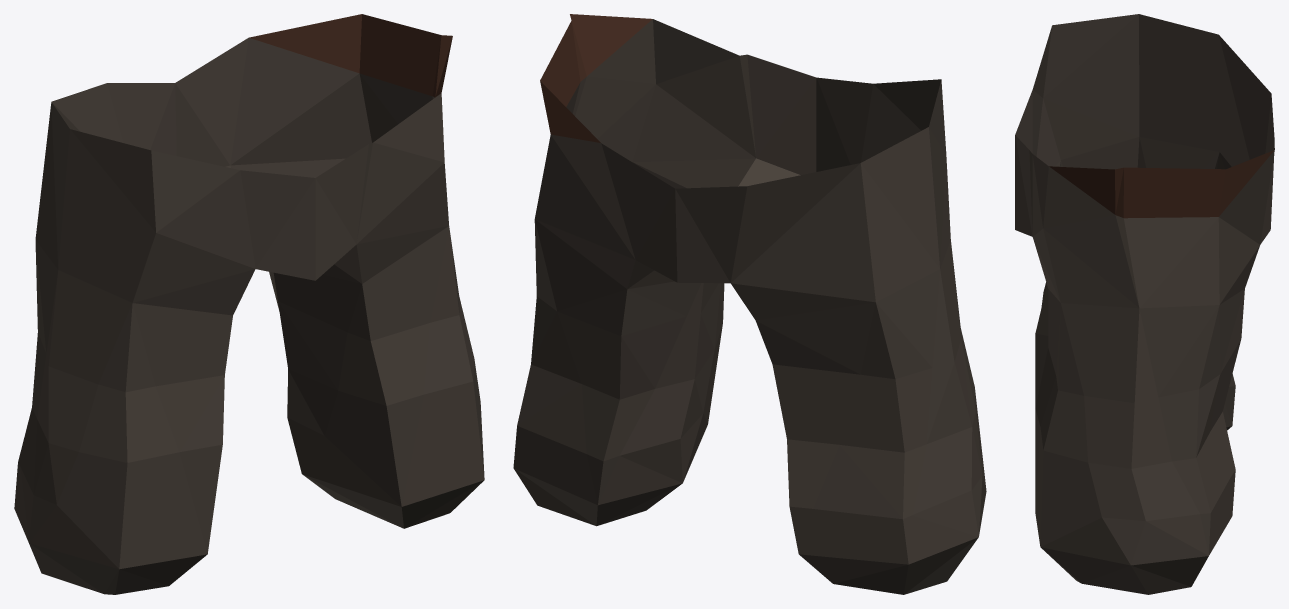
File: ChitinPants.dae
3 renders of one model, left to right at view 1: azimuth 30°, elevation 25°; view 2: azimuth 150°, elevation 25°; view 3: azimuth 270°, elevation 25°, orthographic. The views are drawn at different scales.
Visible parts, largest first — view 1: ChitinPants; view 2: ChitinPants; view 3: ChitinPants.
Boxes of the visible parts, x1=… form: ChitinPants: x1=14, y1=14, x2=484, y2=594; ChitinPants: x1=513, y1=14, x2=986, y2=594; ChitinPants: x1=1015, y1=14, x2=1274, y2=594.
Bounding box in the file's own units: 2.73 × 1.48 × 2.66.
